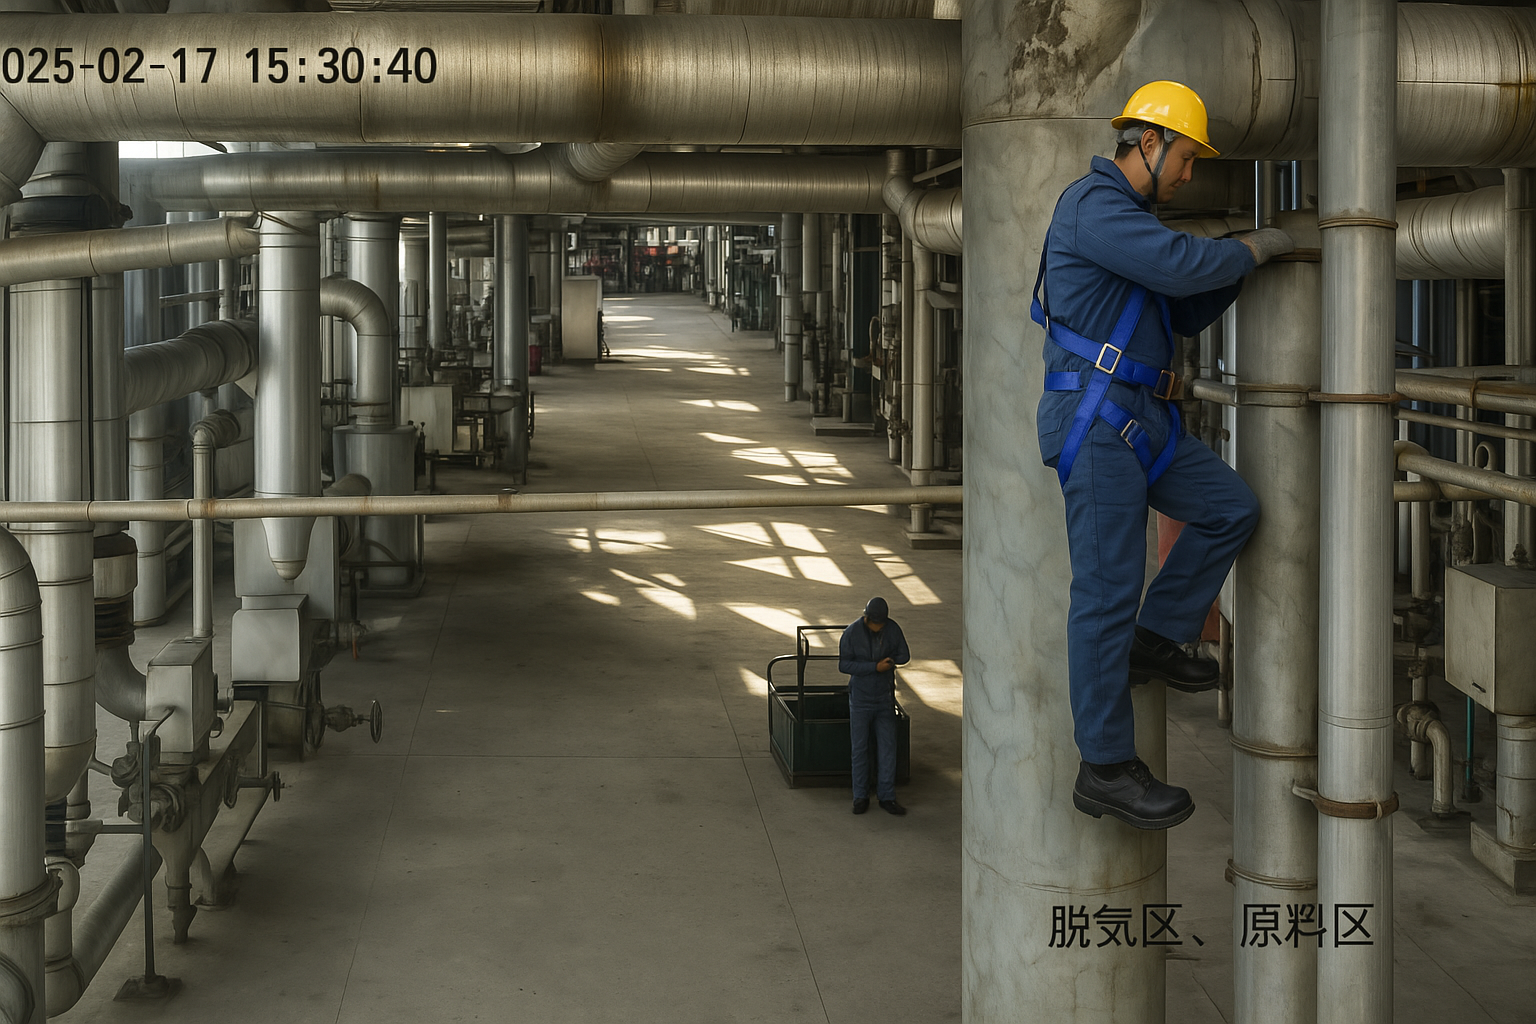safety_belt: (1022, 161, 1202, 504)
